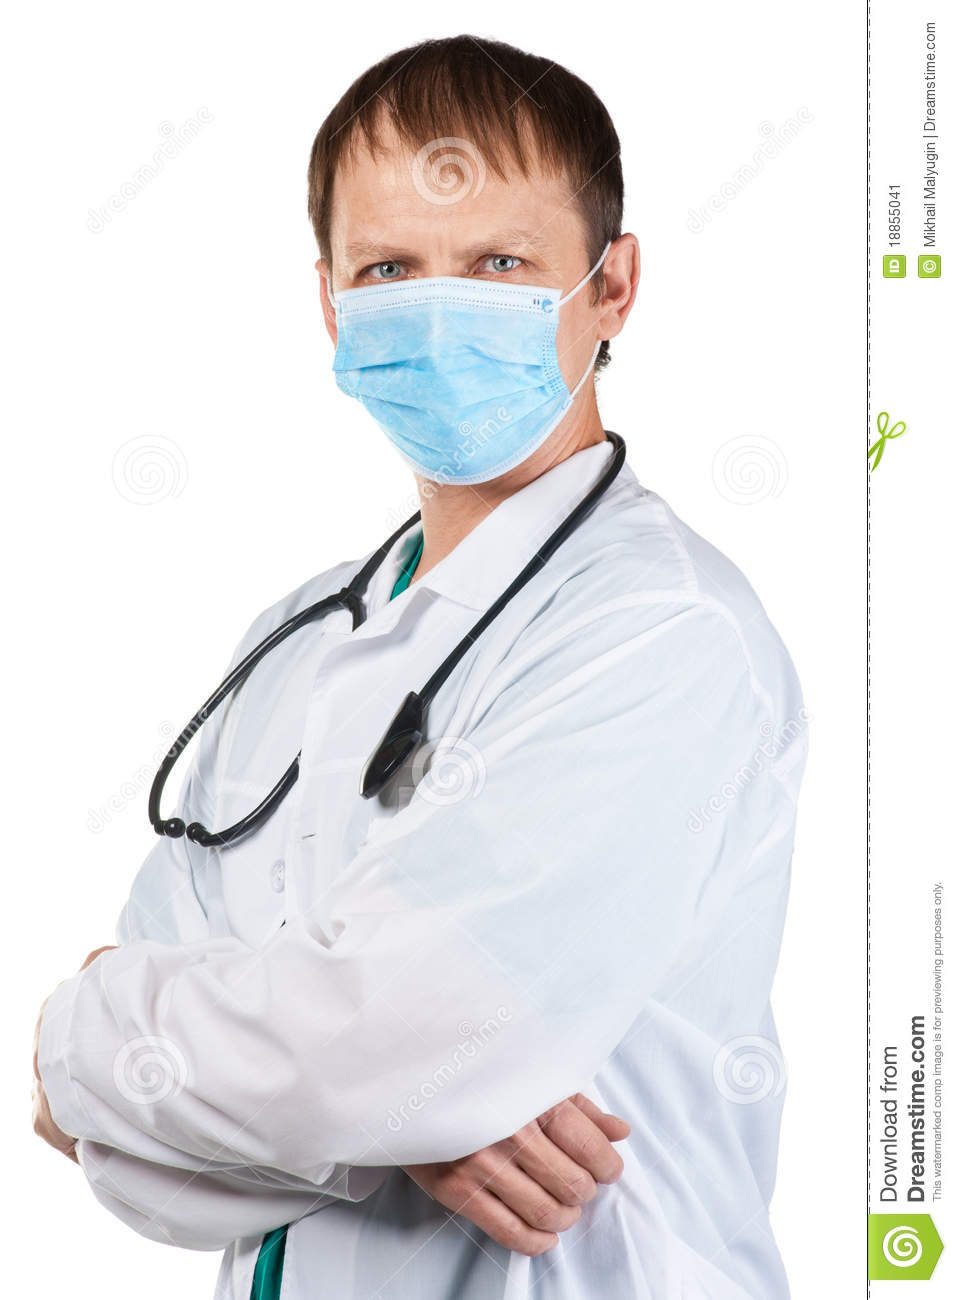mask: (326, 281, 567, 491)
